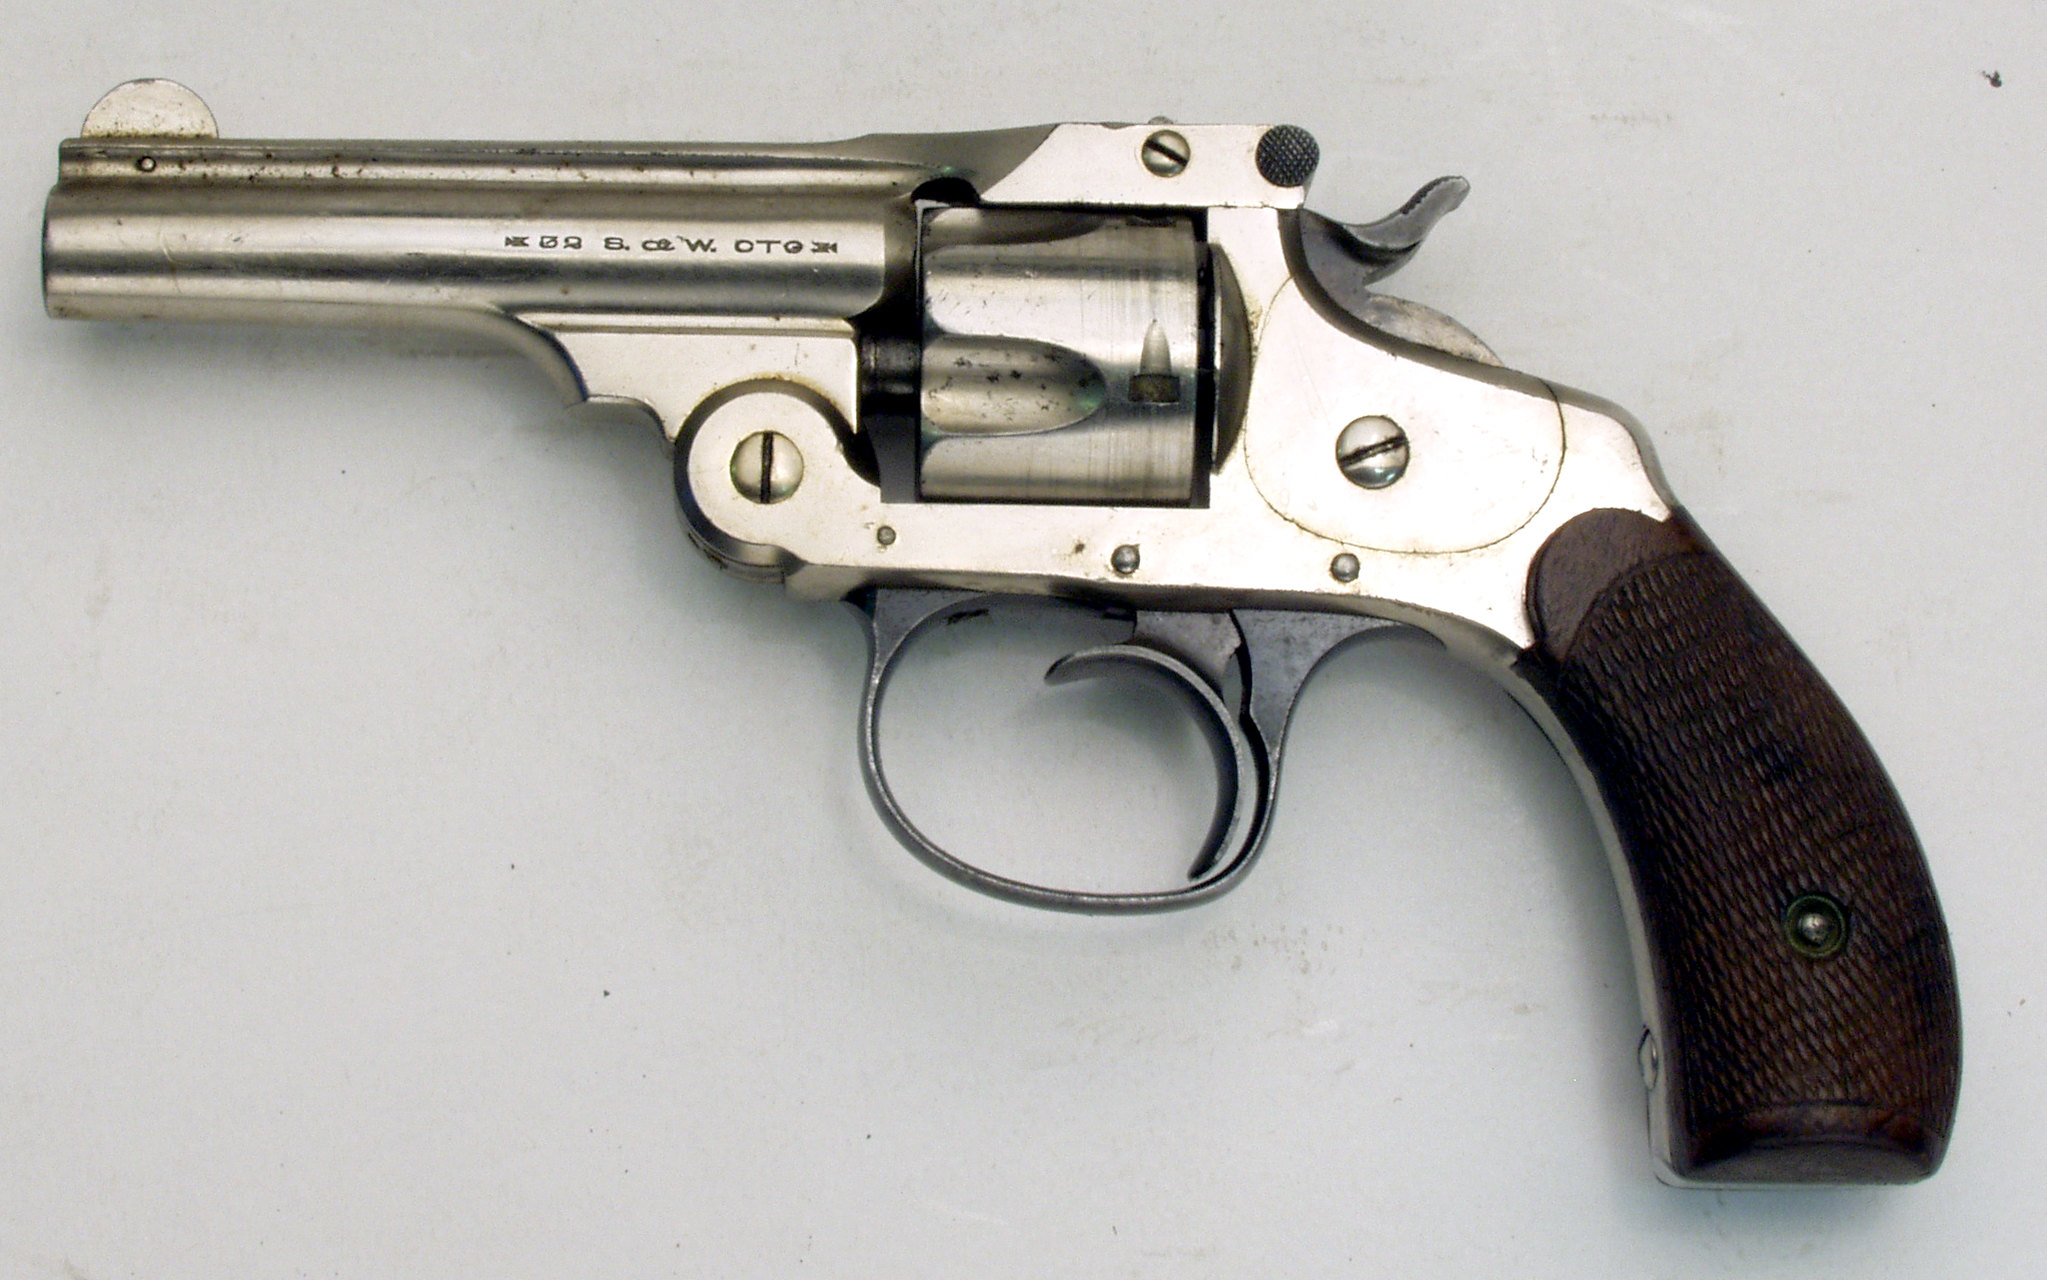gun: (18, 72, 1984, 1215)
